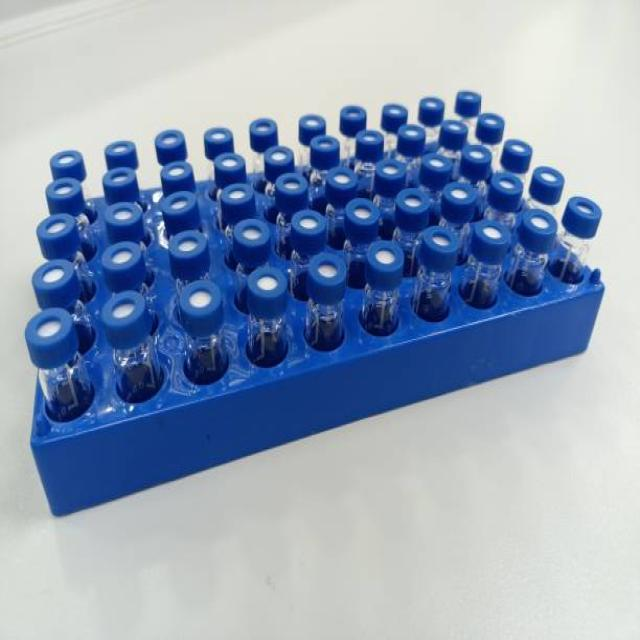vial: (178, 276, 230, 322), (99, 242, 149, 276), (25, 312, 76, 345), (102, 298, 153, 331), (522, 210, 560, 248), (31, 263, 76, 295), (293, 209, 329, 249), (442, 180, 486, 212), (233, 221, 273, 253), (102, 168, 144, 198), (160, 190, 204, 218), (346, 194, 382, 228), (311, 256, 345, 291), (250, 268, 286, 300), (172, 228, 208, 260), (422, 223, 456, 256), (106, 140, 146, 166), (368, 242, 400, 274), (38, 217, 82, 239), (474, 220, 506, 250), (103, 204, 143, 228), (274, 172, 309, 198), (566, 197, 598, 225), (222, 185, 256, 211), (155, 127, 189, 153), (533, 167, 565, 194), (48, 178, 86, 200), (245, 118, 281, 140), (400, 186, 430, 212), (324, 170, 358, 192), (464, 145, 492, 171), (423, 156, 453, 178), (378, 160, 408, 182), (338, 106, 368, 128), (48, 150, 88, 166), (214, 152, 244, 173), (308, 133, 341, 152), (504, 138, 532, 160), (206, 126, 233, 148), (162, 164, 194, 182), (300, 115, 328, 134), (478, 113, 506, 131), (398, 124, 426, 142), (264, 148, 292, 166), (357, 134, 382, 152), (420, 98, 446, 115), (442, 121, 468, 137), (456, 89, 482, 105), (381, 103, 407, 119), (494, 175, 518, 191)
